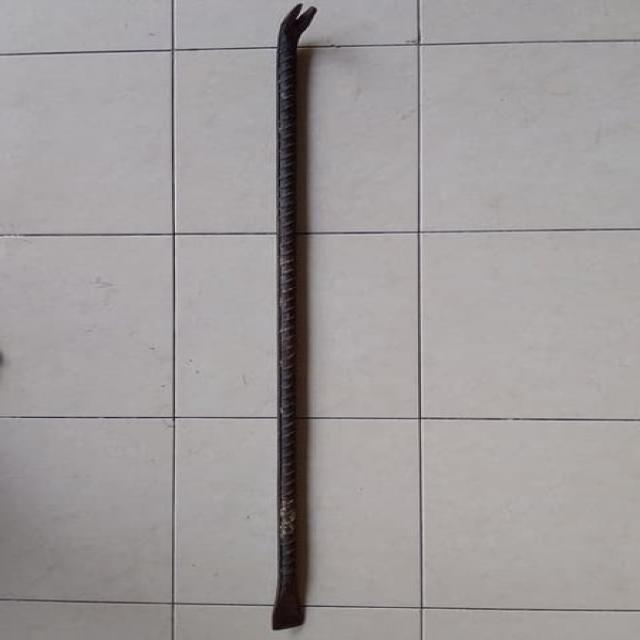Linggis: (254, 0, 333, 640)
